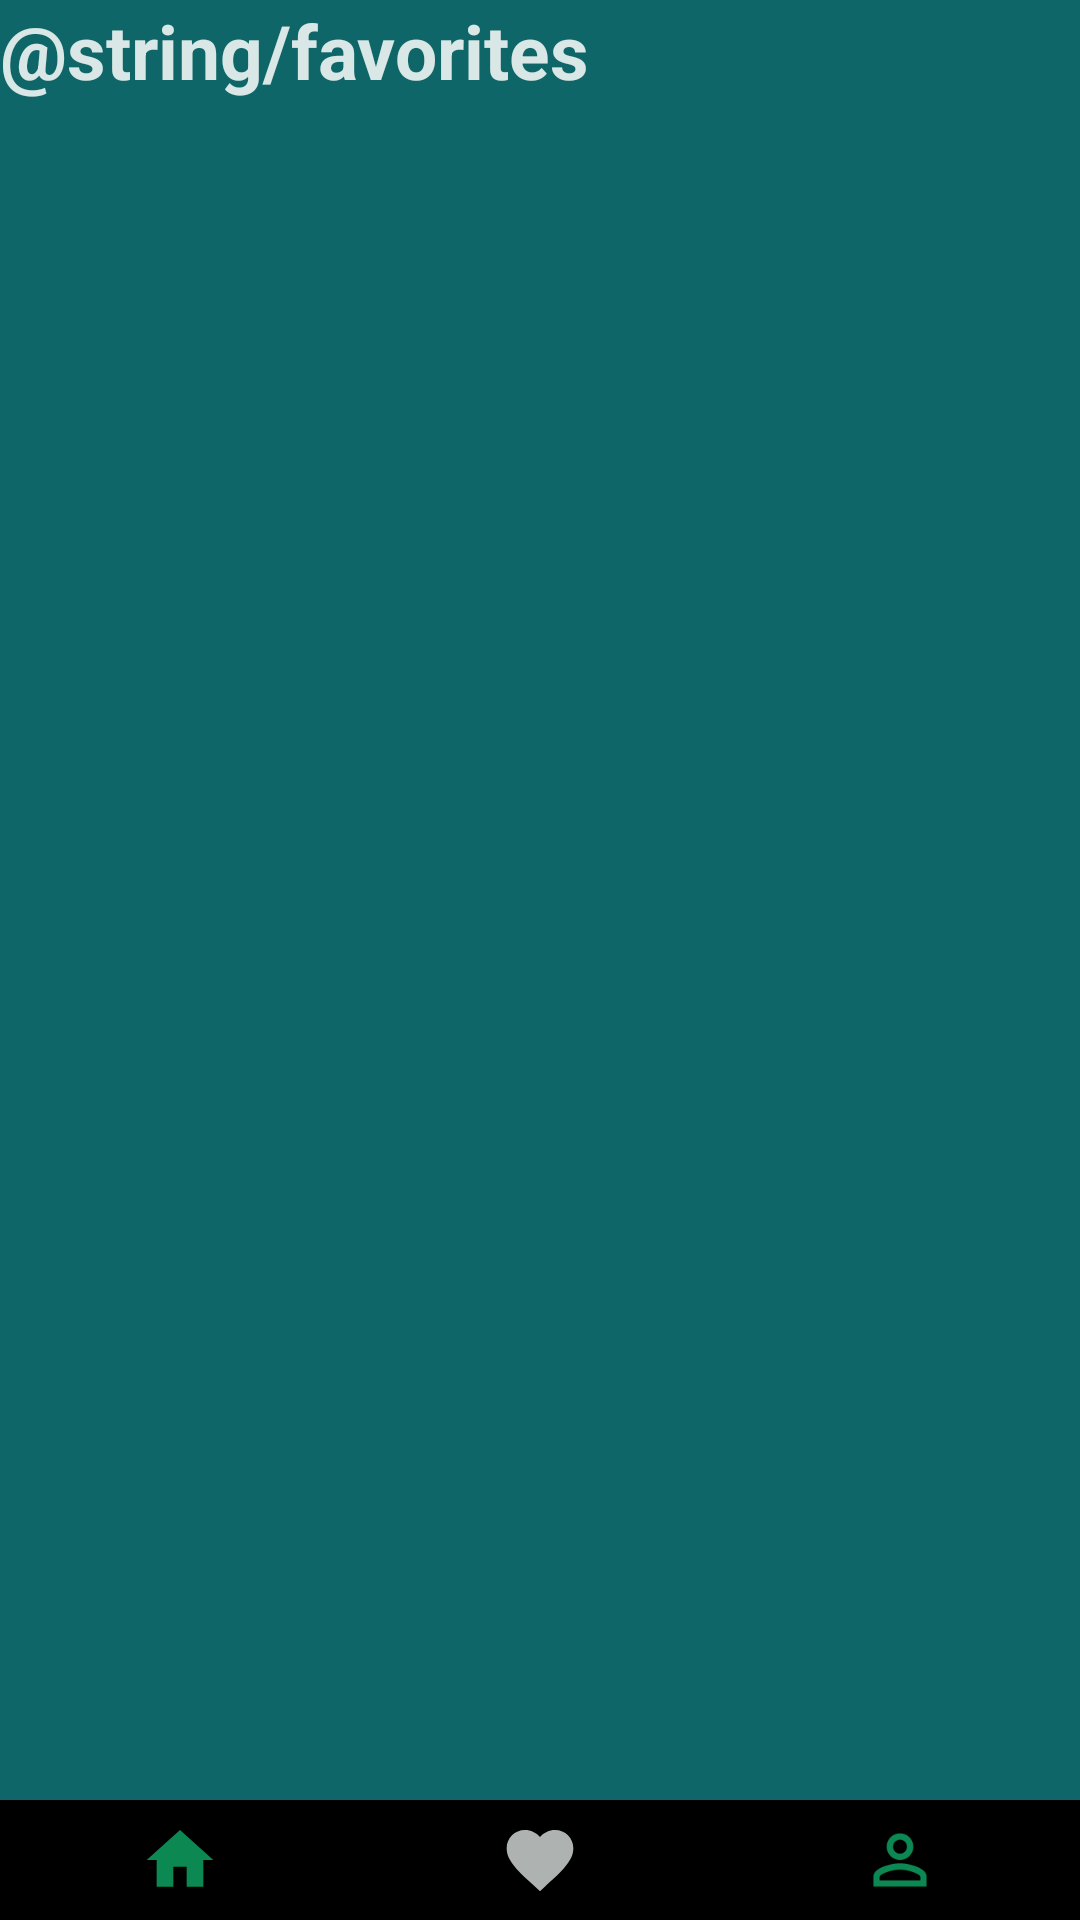

Locate icon controls on the screen. Image size 1080px×1920px, boxes as (x1, y1, x2, y2).
favourite: (506, 1830, 574, 1891)
